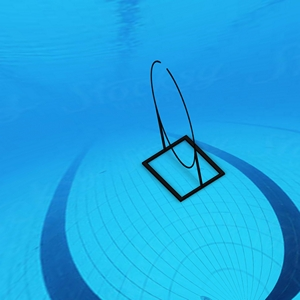circle: (140, 60, 228, 204)
